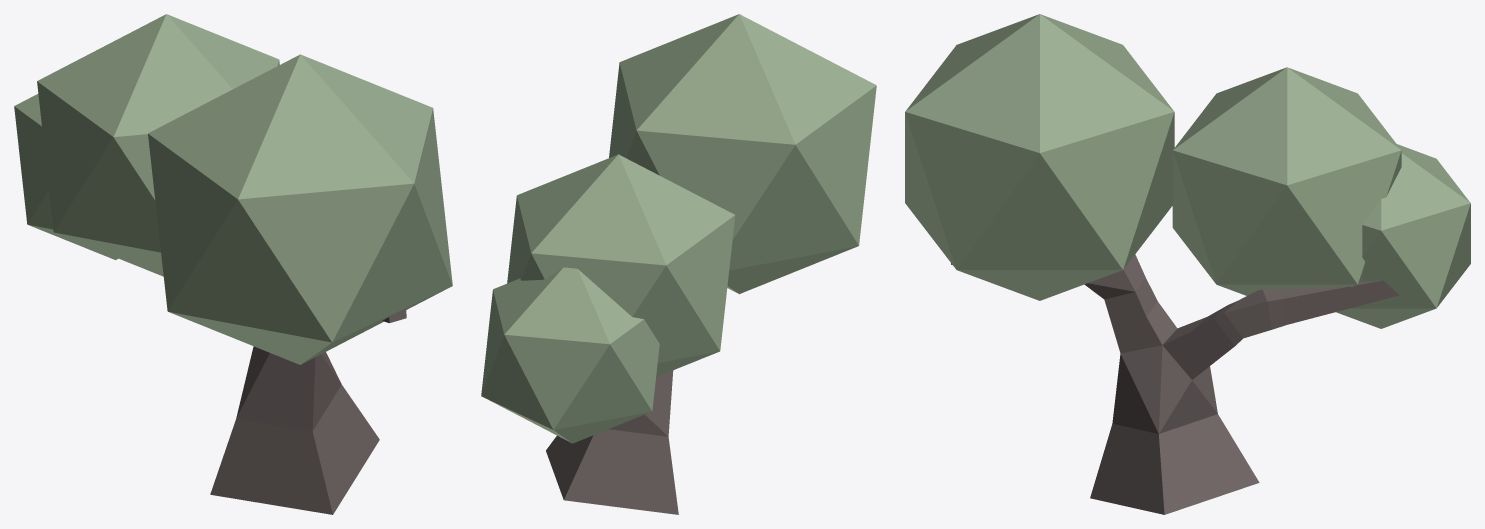
The model's file is pohon-1.glb.
3 views of the same model, side by side, from view 1: azimuth 30°, elevation 25°; view 2: azimuth 150°, elevation 25°; view 3: azimuth 270°, elevation 25° (orthographic). The views are drawn at different scales.
Parts seen in each view (by area): view 1: Icosphere.004, Icosphere.006, Plane, Icosphere.005; view 2: Icosphere.004, Icosphere.006, Icosphere.005, Plane; view 3: Icosphere.004, Icosphere.006, Plane, Icosphere.005.
Part boxes in pixels (x1,y1,x2,y2): Icosphere.004: [148, 54, 452, 364]; Icosphere.006: [37, 14, 279, 276]; Plane: [210, 309, 406, 514]; Icosphere.005: [14, 94, 118, 259]; Icosphere.004: [609, 14, 876, 294]; Icosphere.006: [507, 154, 735, 376]; Icosphere.005: [481, 267, 659, 443]; Plane: [546, 370, 678, 514]; Icosphere.004: [905, 14, 1174, 300]; Icosphere.006: [1172, 67, 1401, 295]; Plane: [951, 254, 1399, 514]; Icosphere.005: [1336, 144, 1470, 328].
Bounding box in the file's own units: 1.77 × 2.99 × 3.35.
